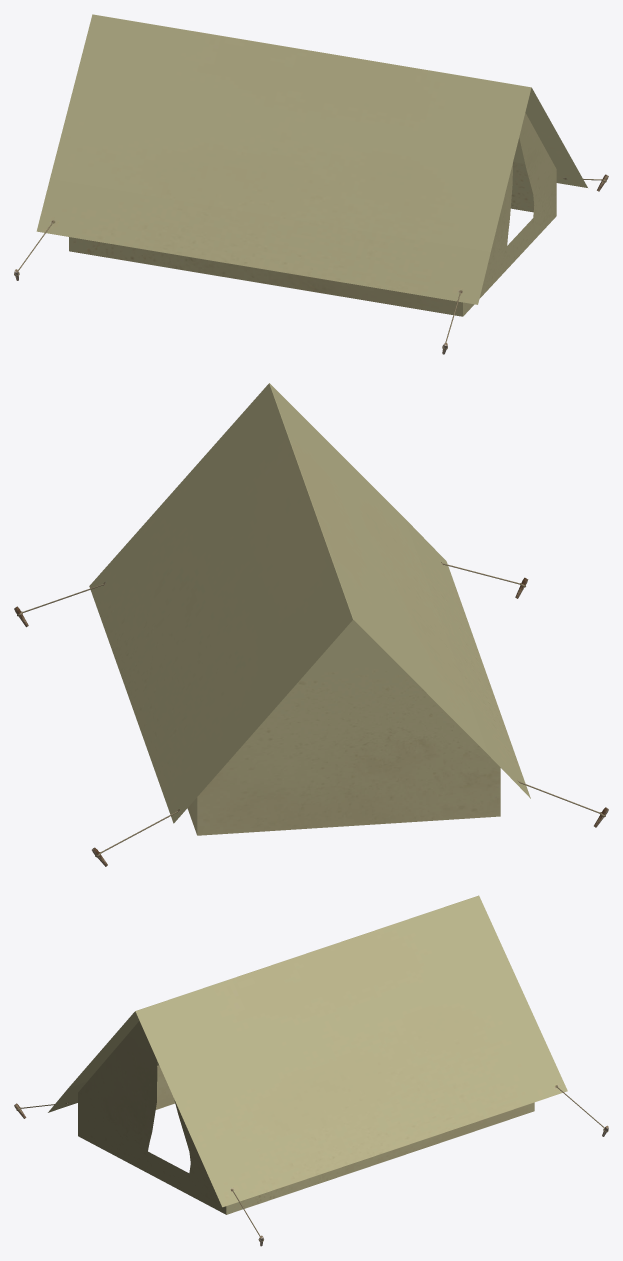
Rendered from Tent.obj.
3 views of the same model, one above another, from view 1: azimuth 30°, elevation 25°; view 2: azimuth 150°, elevation 25°; view 3: azimuth 270°, elevation 25° (orthographic). The views are drawn at different scales.
Visible parts, largest first — view 1: Campfire_OBJ; view 2: Campfire_OBJ; view 3: Campfire_OBJ.
Boxes of the visible parts, bbox=[...] form: Campfire_OBJ: bbox=[14, 14, 608, 354]; Campfire_OBJ: bbox=[14, 383, 608, 866]; Campfire_OBJ: bbox=[14, 895, 608, 1246].
Size of the model in its own units: 42.11 by 14.11 by 42.77.
